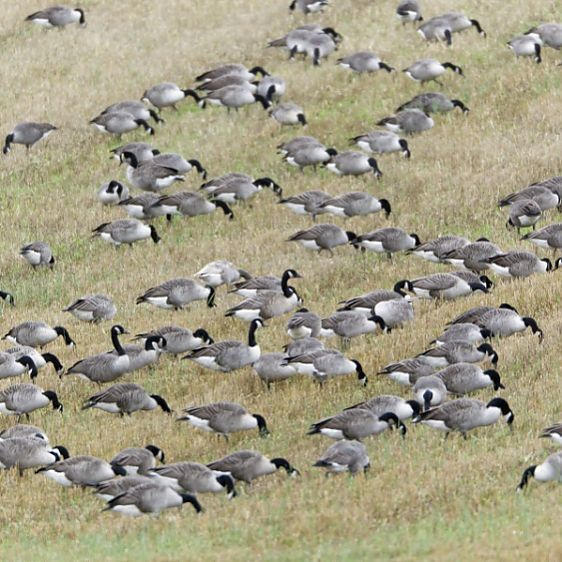goose: (184, 317, 267, 374), (179, 401, 276, 445), (227, 265, 306, 318), (419, 397, 516, 439), (99, 485, 203, 523), (79, 382, 172, 423), (287, 348, 373, 392), (34, 449, 128, 488), (70, 323, 131, 382), (306, 409, 411, 443), (134, 277, 225, 316), (147, 460, 238, 497), (1, 426, 67, 474), (337, 277, 418, 315), (214, 449, 306, 482), (86, 217, 162, 255), (204, 168, 285, 202), (406, 272, 490, 304), (515, 441, 562, 498), (313, 308, 391, 342), (338, 392, 418, 425), (114, 150, 183, 188), (1, 319, 77, 353), (1, 384, 67, 423), (64, 287, 125, 328), (1, 344, 71, 379), (354, 225, 424, 260), (274, 132, 340, 169), (434, 240, 508, 273), (479, 310, 550, 344), (314, 437, 374, 477), (399, 55, 467, 90), (153, 193, 240, 219), (206, 86, 276, 118), (290, 223, 357, 256), (328, 190, 397, 222), (398, 90, 474, 119), (412, 232, 483, 263), (133, 326, 214, 353), (22, 3, 90, 35), (140, 82, 208, 114), (425, 338, 499, 367), (481, 248, 552, 278), (345, 127, 411, 159), (3, 118, 56, 157), (187, 258, 255, 288), (335, 48, 393, 81), (434, 368, 508, 393), (323, 148, 380, 180), (108, 439, 170, 467), (499, 181, 562, 208), (86, 113, 151, 139), (92, 99, 165, 122), (375, 107, 436, 133), (269, 97, 318, 129), (283, 188, 331, 219), (147, 150, 208, 174), (380, 357, 444, 379), (122, 335, 168, 365), (201, 61, 274, 79), (522, 223, 562, 255), (503, 199, 538, 235), (433, 10, 499, 29), (503, 32, 543, 63), (285, 305, 322, 338), (19, 240, 57, 270), (1, 356, 41, 384), (107, 140, 165, 159), (95, 178, 134, 204), (415, 376, 448, 406), (437, 320, 484, 341), (416, 21, 456, 44), (258, 72, 292, 98), (285, 27, 313, 57), (307, 30, 334, 61), (284, 1, 330, 19), (392, 1, 424, 23), (1, 286, 20, 316)
